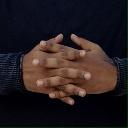W: (21, 31, 117, 106)
